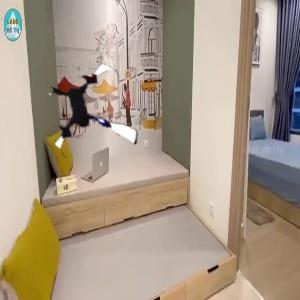drone: (39, 60, 147, 168)
